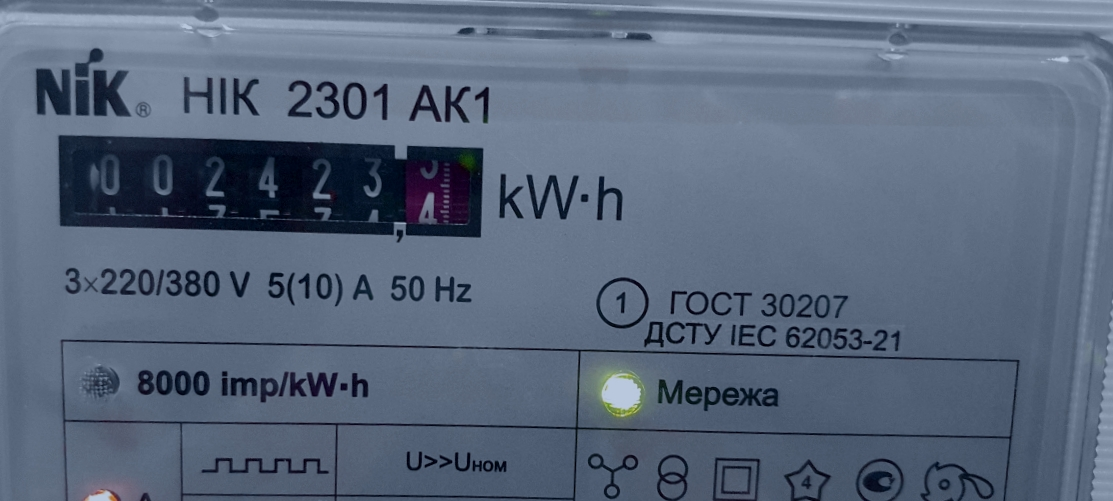0: (95, 149, 124, 198), (149, 151, 176, 197)
2: (201, 152, 228, 199), (308, 156, 333, 202)
3: (359, 154, 385, 200), (418, 156, 440, 180)
4: (255, 154, 279, 200), (414, 187, 440, 226)
screen: (43, 119, 498, 255)
